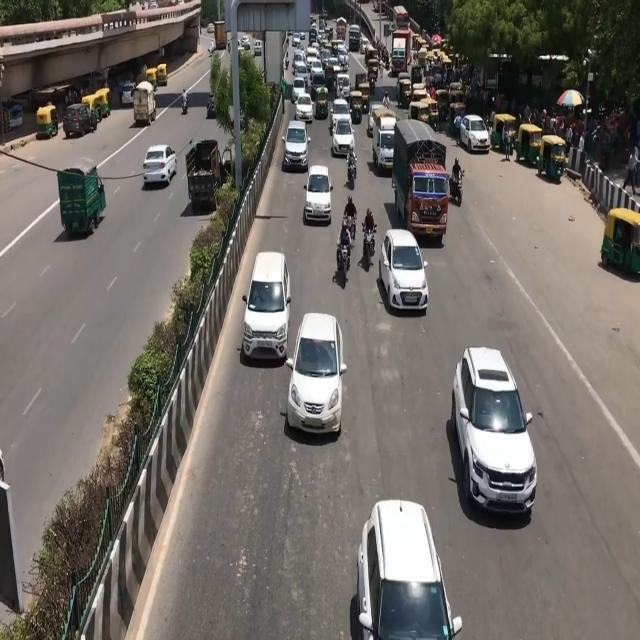Truck: (394, 124, 455, 238)
